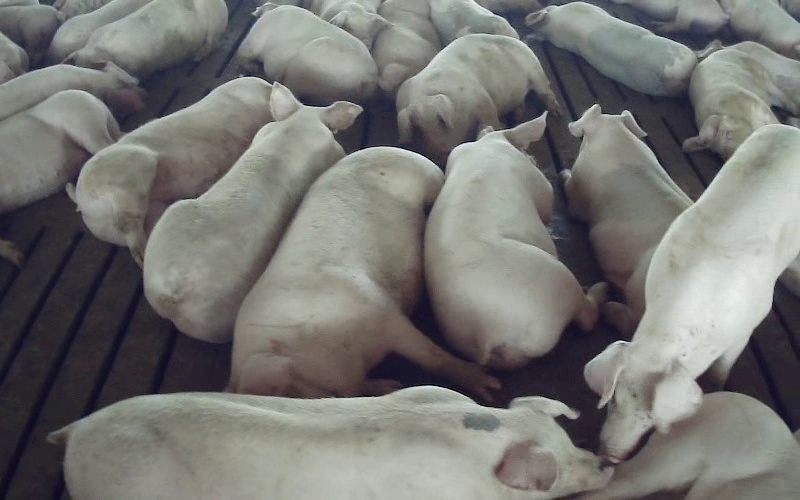pig: (585, 125, 799, 459), (229, 148, 499, 398), (49, 386, 611, 499), (425, 112, 604, 368), (67, 77, 271, 264), (562, 104, 692, 336), (578, 393, 799, 499), (396, 34, 558, 165), (526, 2, 696, 95), (0, 90, 120, 213), (237, 3, 377, 105), (683, 49, 793, 159), (0, 62, 145, 120), (430, 0, 518, 45)
